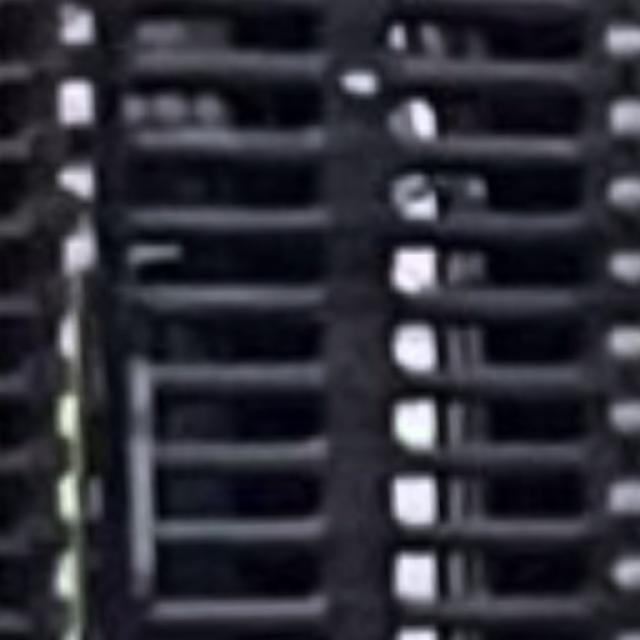igps: (106, 292, 640, 384), (106, 215, 640, 306), (107, 138, 640, 226), (102, 59, 640, 145), (106, 372, 640, 457), (110, 450, 640, 530), (110, 535, 640, 615), (104, 0, 638, 68)
